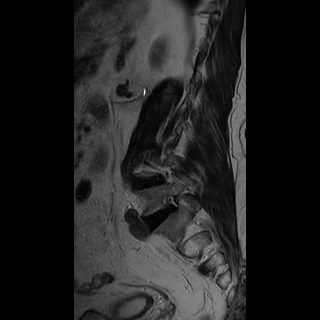LFS2: (159, 189, 184, 218)
